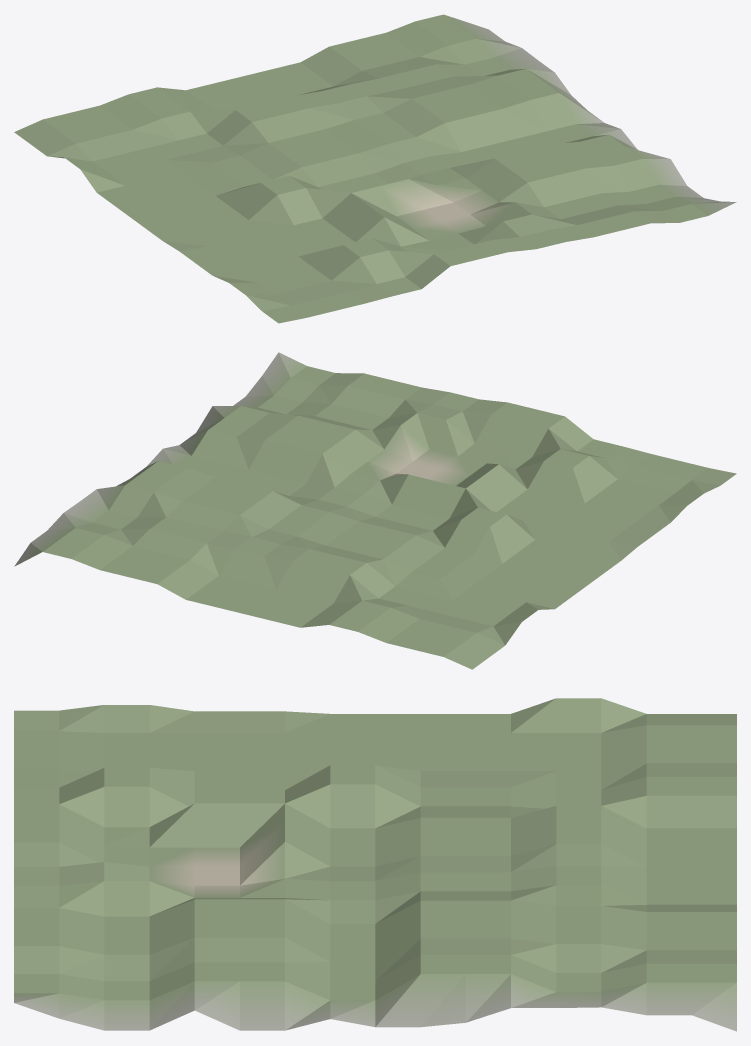
3 views of the same model, one above another, from view 1: azimuth 30°, elevation 25°; view 2: azimuth 150°, elevation 25°; view 3: azimuth 270°, elevation 25° (orthographic). The views are drawn at different scales.
Size of the model in its own units: 32 by 1.88 by 32.
